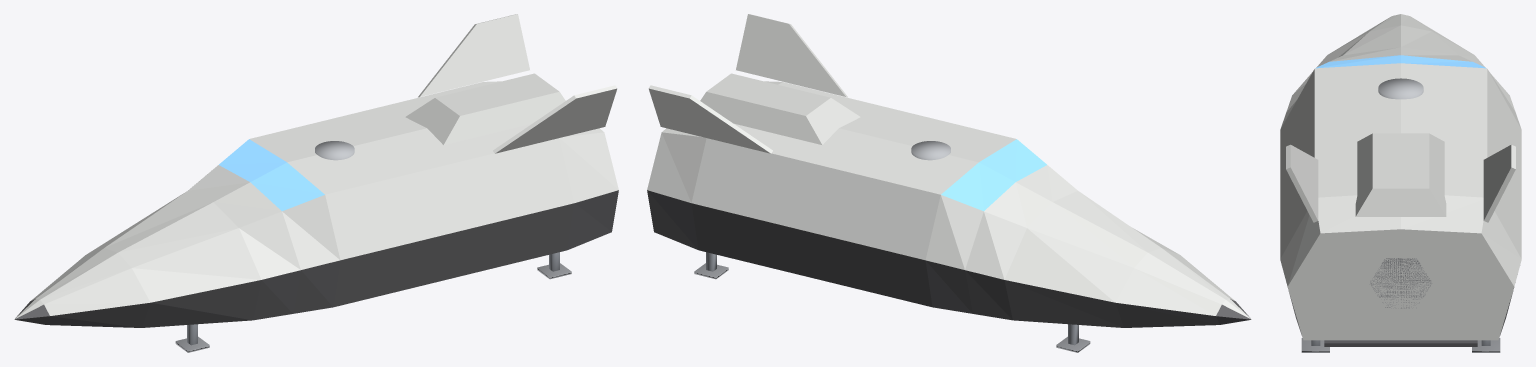
Rendered from b4s_landed.glb.
3 views of the same model, side by side, from view 1: azimuth 30°, elevation 25°; view 2: azimuth 150°, elevation 25°; view 3: azimuth 270°, elevation 25° (orthographic). The views are drawn at different scales.
Parts seen in each view (by area): view 1: hull, belly_tps, kit_pod, fin_stbd, glazing, fin_port, dorsal_hatch; view 2: hull, belly_tps, kit_pod, fin_port, glazing, fin_stbd, dorsal_hatch; view 3: hull, kit_pod, fin_stbd, fin_port, torch_nozzle, glazing, body_flap, dorsal_hatch, pad_aft_stbd, pad_aft_port.
Part boxes in pixels (left/top/right/bottom): hull: left=14, top=81, right=618, bottom=319; belly_tps: left=14, top=190, right=618, bottom=327; kit_pod: left=405, top=73, right=565, bottom=145; fin_stbd: left=418, top=14, right=529, bottom=97; glazing: left=219, top=139, right=324, bottom=211; fin_port: left=493, top=85, right=617, bottom=153; dorsal_hatch: left=315, top=141, right=354, bottom=160; hull: left=647, top=81, right=1251, bottom=319; belly_tps: left=647, top=190, right=1251, bottom=327; kit_pod: left=700, top=73, right=860, bottom=145; fin_port: left=736, top=14, right=847, bottom=97; glazing: left=941, top=139, right=1046, bottom=211; fin_stbd: left=648, top=85, right=772, bottom=153; dorsal_hatch: left=911, top=141, right=950, bottom=160; hull: left=1280, top=14, right=1521, bottom=340; kit_pod: left=1355, top=133, right=1446, bottom=216; fin_stbd: left=1483, top=144, right=1515, bottom=222; fin_port: left=1286, top=144, right=1318, bottom=222; torch_nozzle: left=1370, top=258, right=1431, bottom=308; glazing: left=1315, top=55, right=1486, bottom=68; body_flap: left=1324, top=340, right=1477, bottom=346; dorsal_hatch: left=1378, top=78, right=1423, bottom=99; pad_aft_stbd: left=1472, top=338, right=1500, bottom=352; pad_aft_port: left=1301, top=338, right=1329, bottom=352.
Size of the model in its own units: 12.8 by 4.03 by 4.26.
